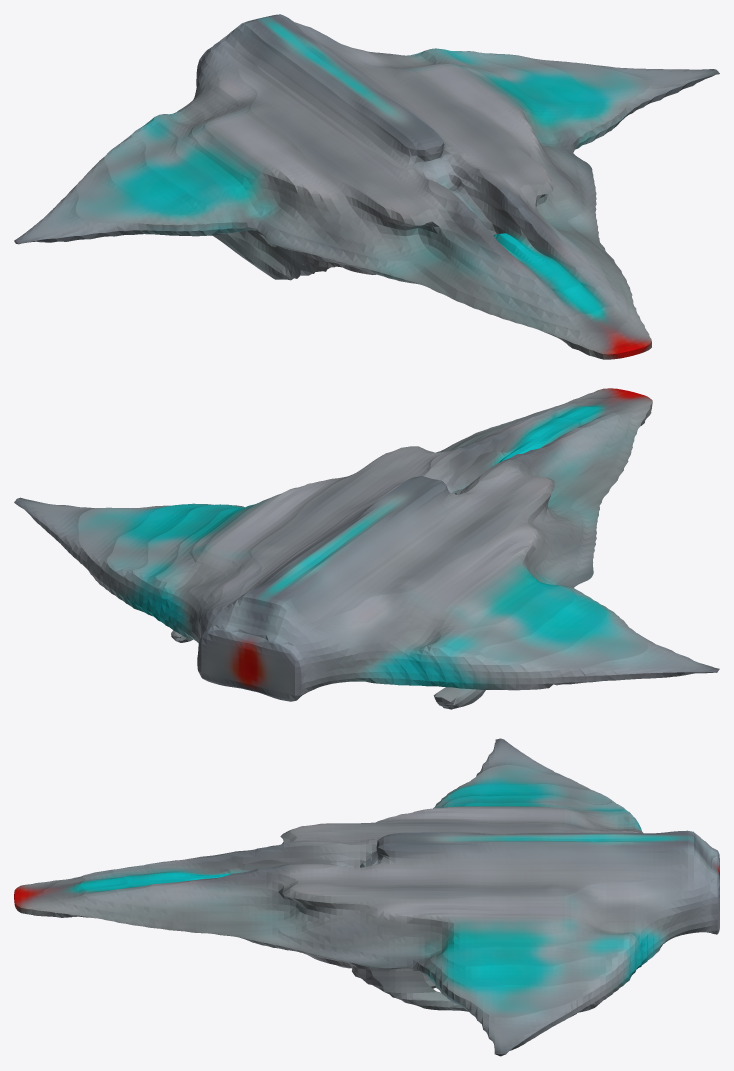
The model's file is generated_spaceship.glb.
The picture shows the model from 3 angles, top to bottom: view 1: azimuth 30°, elevation 25°; view 2: azimuth 150°, elevation 25°; view 3: azimuth 270°, elevation 25°; orthographic projection. The views are drawn at different scales.
Visible parts, largest first — view 1: mesh.ply; view 2: mesh.ply; view 3: mesh.ply.
Part boxes in pixels (<box>): mesh.ply: <box>14,14,719,359</box>; mesh.ply: <box>14,388,719,709</box>; mesh.ply: <box>14,738,719,1056</box>.
Bounding box in the file's own units: 1.98 × 0.3291 × 1.87.
